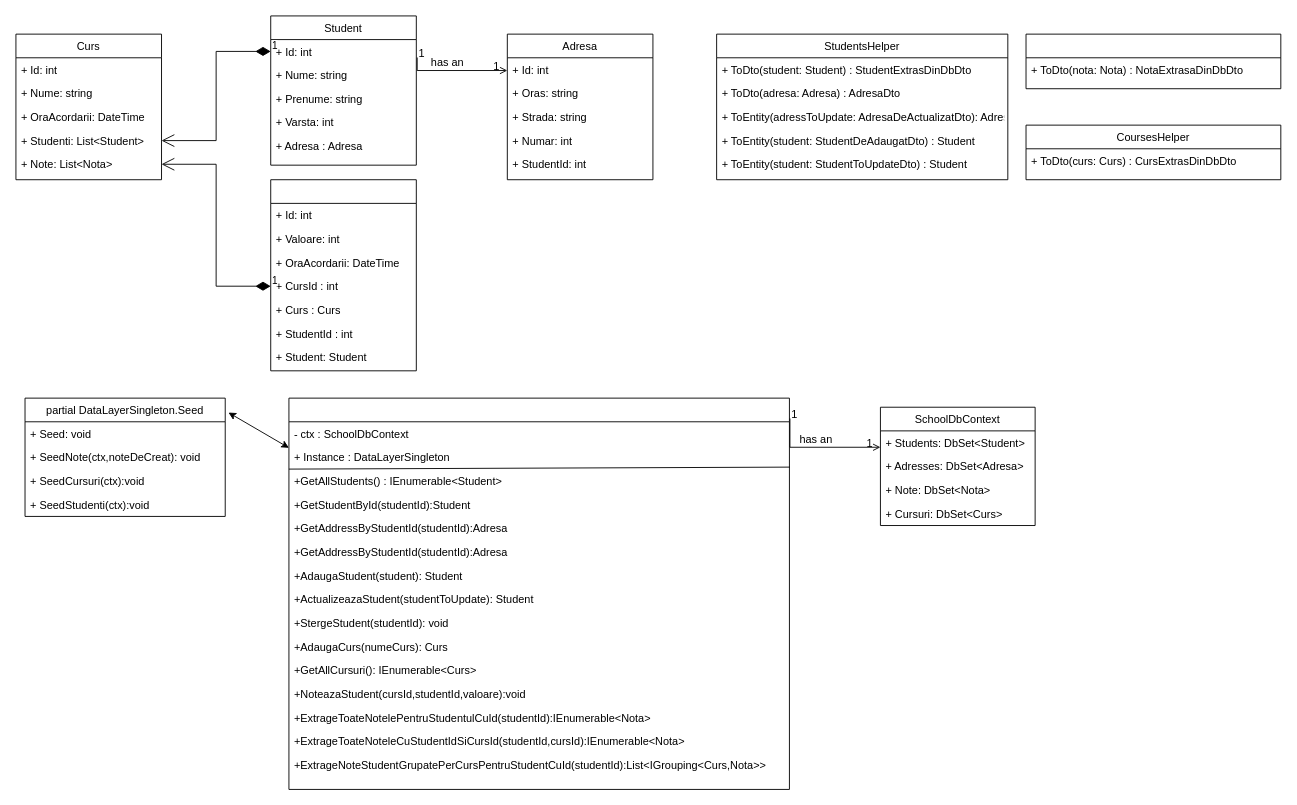
The diagram is 1297 pixels wide and 805 high, and some of its shapes have lost their labels. The box of each missing label's shape, as (x1, y1, x2, y2) in pixels:
GradesHelper: (1025, 33, 1281, 89)
Nota: (270, 179, 416, 371)
partial DataLayerSingleton: (288, 397, 789, 789)
